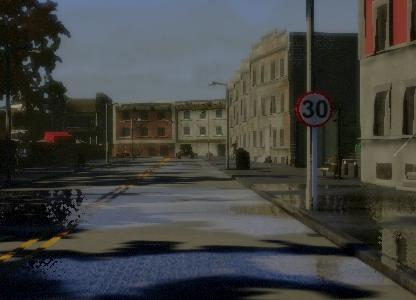Speed_30: (293, 90, 339, 132)
